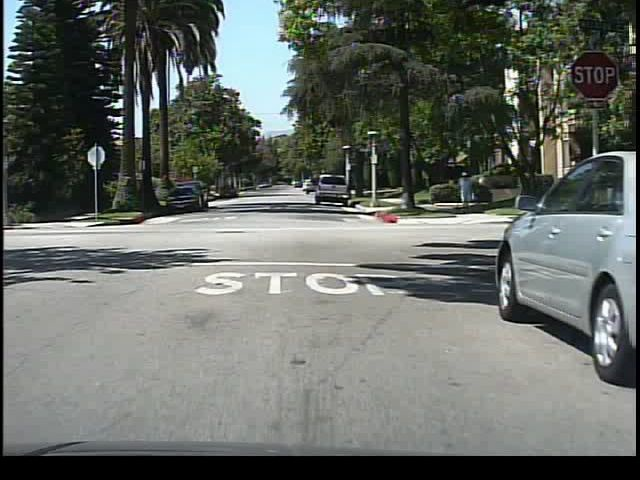person: (455, 168, 474, 215)
